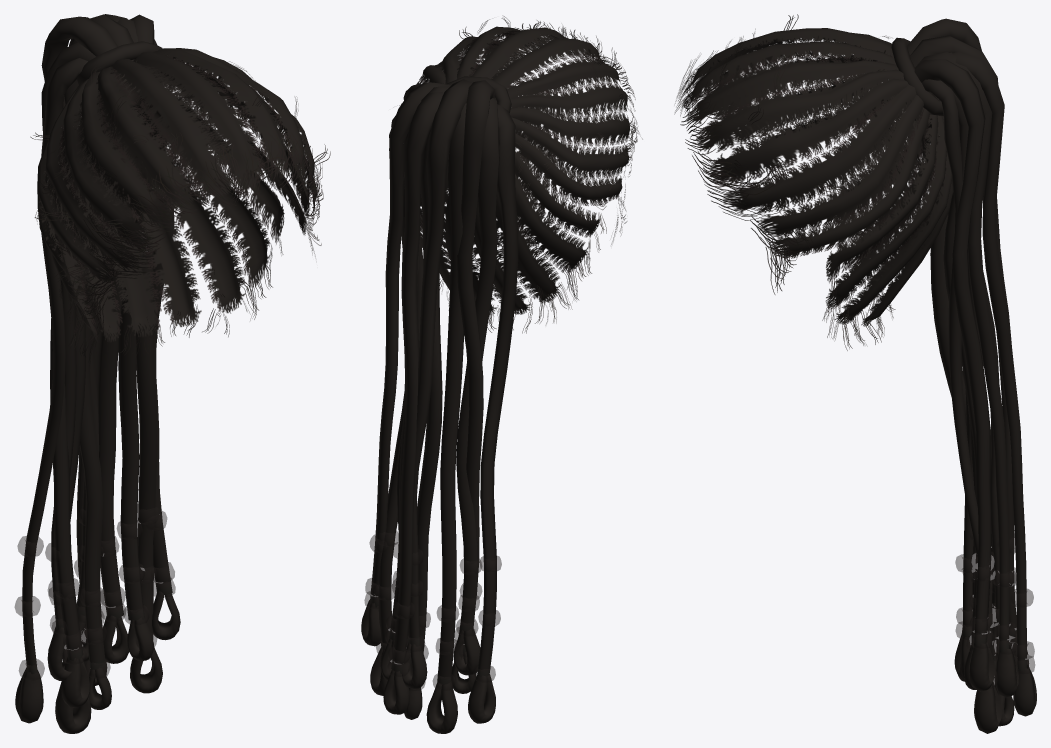
File: hair_cornrows.glb
3 renders of one model, left to right at view 1: azimuth 30°, elevation 25°; view 2: azimuth 150°, elevation 25°; view 3: azimuth 270°, elevation 25°, orthographic. The views are drawn at different scales.
Visible parts, largest first — view 1: hair_cornrows; view 2: hair_cornrows; view 3: hair_cornrows.
Boxes of the visible parts, x1,y1,x2,y2 form: hair_cornrows: (14, 14, 330, 733); hair_cornrows: (361, 16, 642, 733); hair_cornrows: (674, 14, 1036, 733).
Size of the model in its own units: 0.224 by 0.5923 by 0.2805.
1 material, 1 textured.
